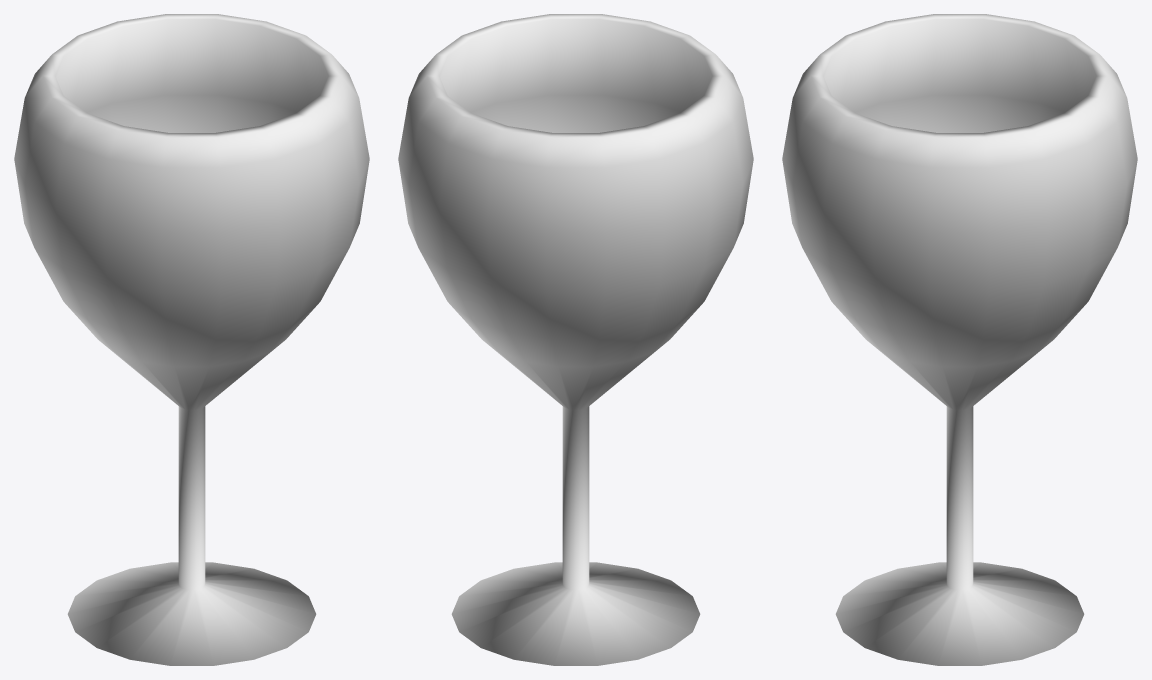
File: Glass.fbx
The picture shows the model from 3 angles, left to right: view 1: azimuth 30°, elevation 25°; view 2: azimuth 150°, elevation 25°; view 3: azimuth 270°, elevation 25°; orthographic projection.
Parts seen in each view (by area): view 1: Glass; view 2: Glass; view 3: Glass.
Boxes of the visible parts, x1,y1,x2,y2 form: Glass: (14, 14, 369, 665); Glass: (398, 14, 753, 665); Glass: (782, 14, 1137, 665).
Size of the model in its own units: 18.33 by 31.08 by 18.61.
